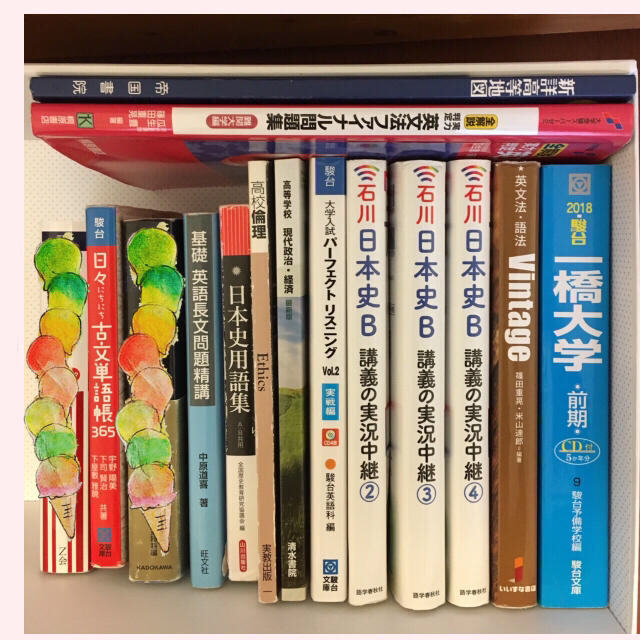book: (535, 158, 615, 615), (386, 159, 450, 614), (487, 158, 542, 614), (442, 153, 492, 608), (341, 155, 390, 607), (214, 199, 265, 586), (269, 154, 309, 603), (81, 199, 129, 573), (309, 149, 348, 606), (181, 211, 224, 589), (246, 158, 276, 605)
